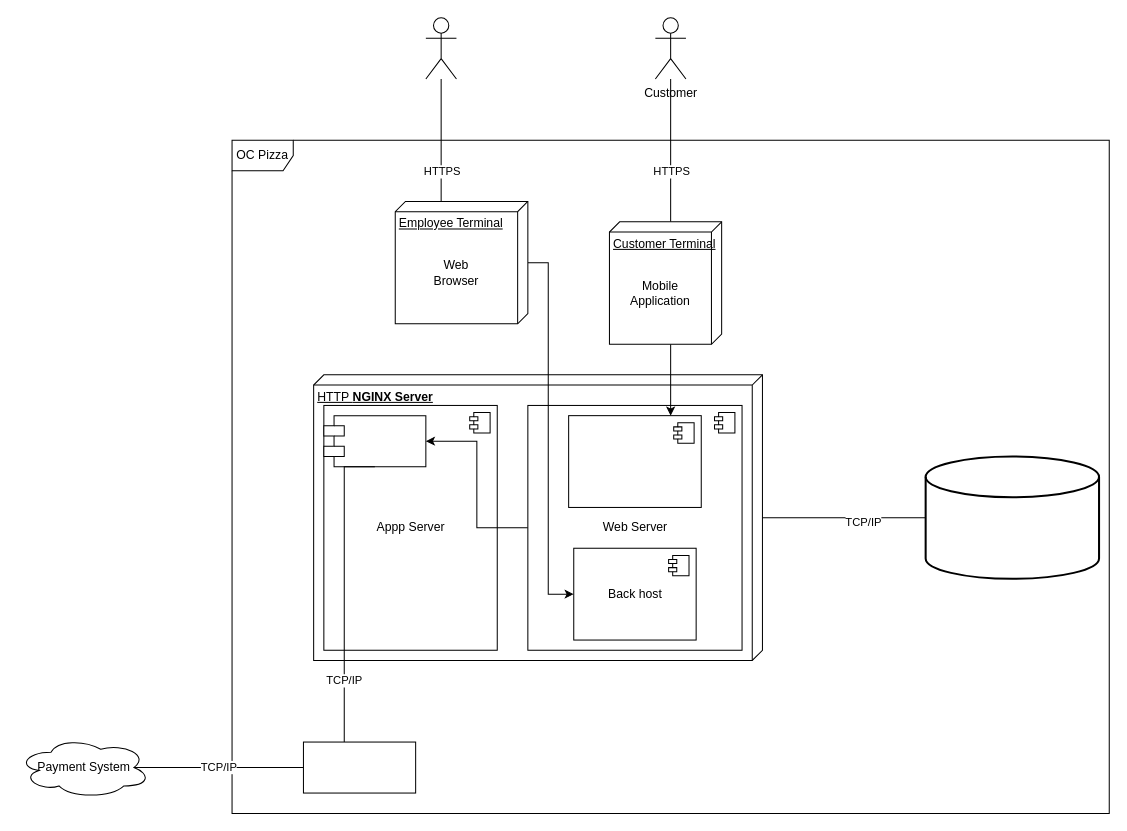
Image size: 1127x831. Some labels were removed from this diagram. Here are the shapes that lost their labels. From the top down, the centre of each, then its label:
point 440,48: Employee
point 374,441: Django App
point 634,461: Front Host
point 1012,517: DataBase Server (e.g PostGre Server)
point 359,767: «interface» Bank API
